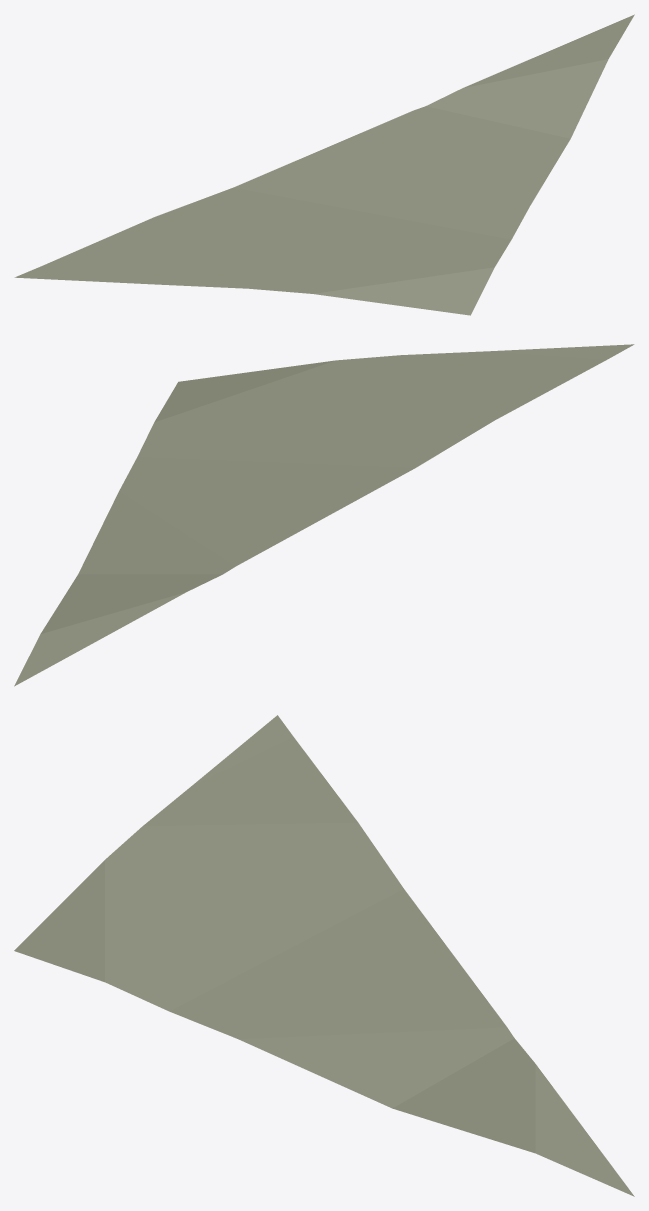
The model's file is farm_-5_-6_soil.glb.
The picture shows the model from 3 angles, top to bottom: view 1: azimuth 30°, elevation 25°; view 2: azimuth 210°, elevation 25°; view 3: azimuth 270°, elevation 25°; orthographic projection. The views are drawn at different scales.
Parts seen in each view (by area): view 1: geometry_0; view 2: geometry_0; view 3: geometry_0.
Boxes of the visible parts, x1,y1,x2,y2 form: geometry_0: (14, 14, 634, 315); geometry_0: (14, 344, 634, 686); geometry_0: (14, 715, 634, 1196).
Bounding box in the file's own units: 192 × 10.76 × 115.
